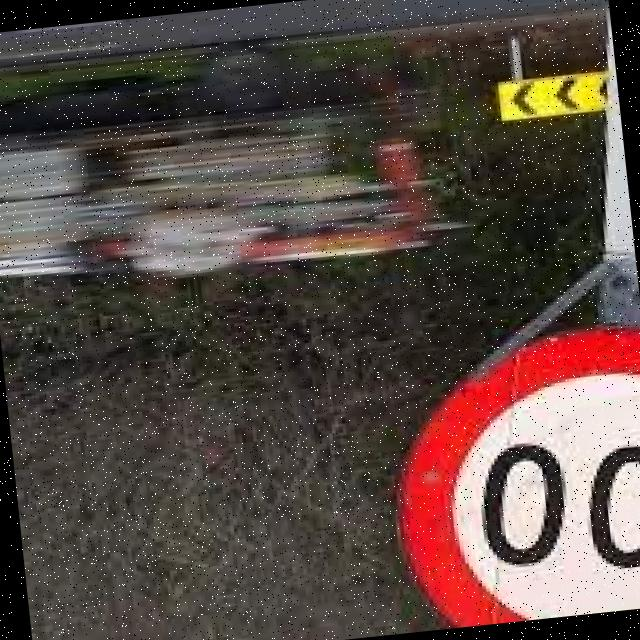speed_limit_100: (377, 319, 640, 632)
